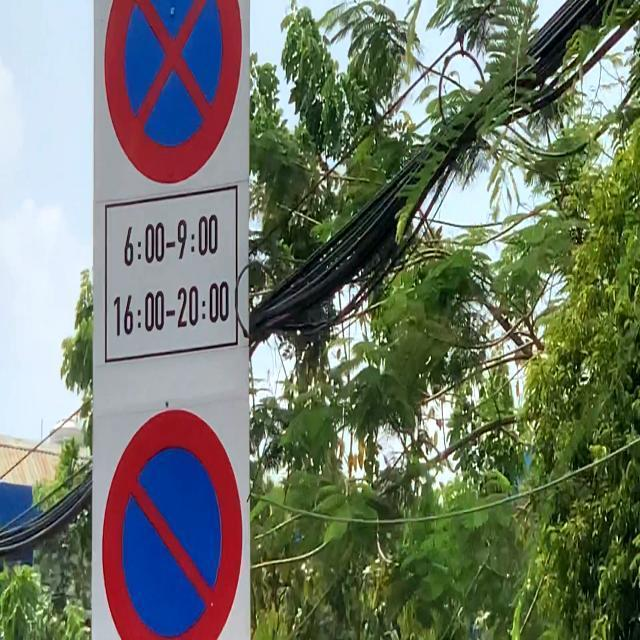130-cam-dung-va-do-xe: (104, 0, 236, 185)
131a-cam-do-xe: (102, 410, 241, 637)
